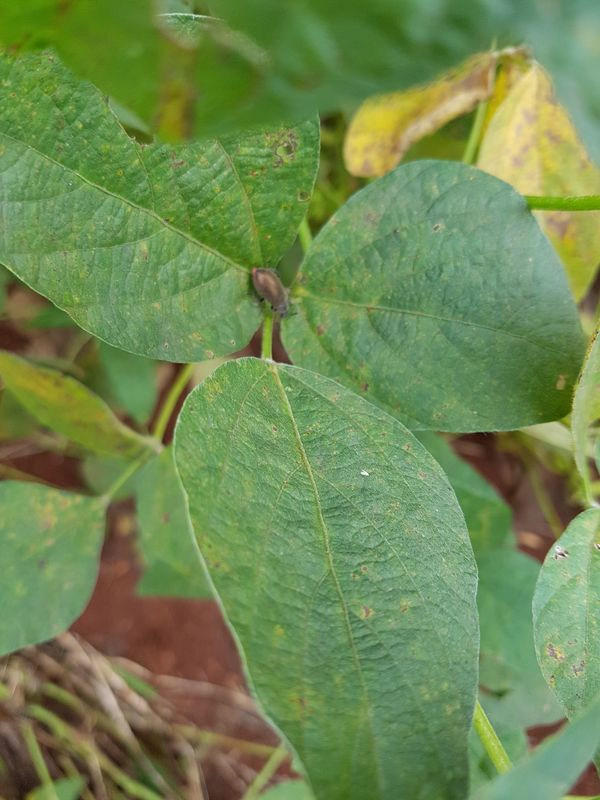Lagria_villosa: (233, 258, 305, 331)
